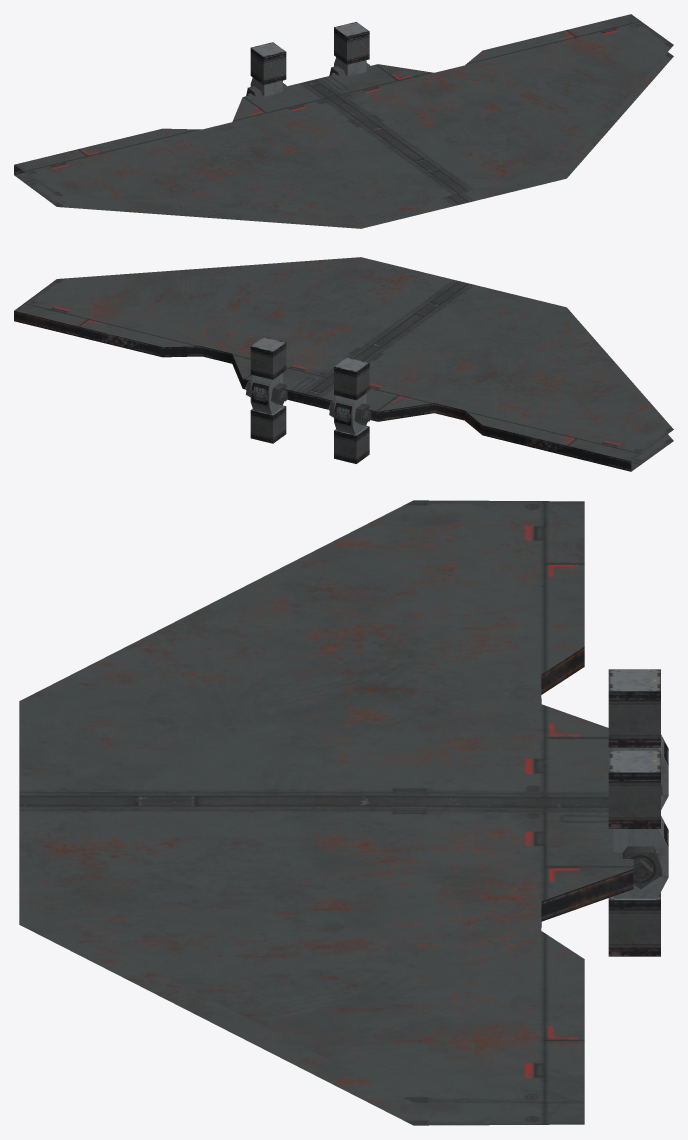
Rendered from ARC0910119.fbx.
3 renders of one model, top to bottom at view 1: azimuth 30°, elevation 25°; view 2: azimuth 150°, elevation 25°; view 3: azimuth 270°, elevation 25°, orthographic. The views are drawn at different scales.
Parts seen in each view (by area): view 1: smARC0910119; view 2: smARC0910119; view 3: smARC0910119.
Boxes of the visible parts, x1,y1,x2,y2 form: smARC0910119: (14,14,673,228); smARC0910119: (14,257,673,471); smARC0910119: (19,500,668,1125).
Size of the model in its own units: 400 by 56.91 by 182.
1 material, 1 textured.
